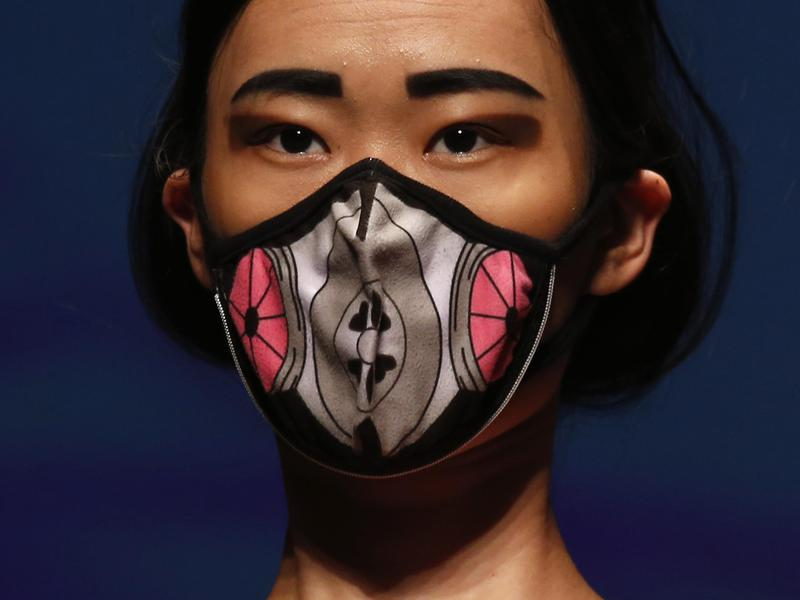with_mask: (194, 1, 594, 487)
